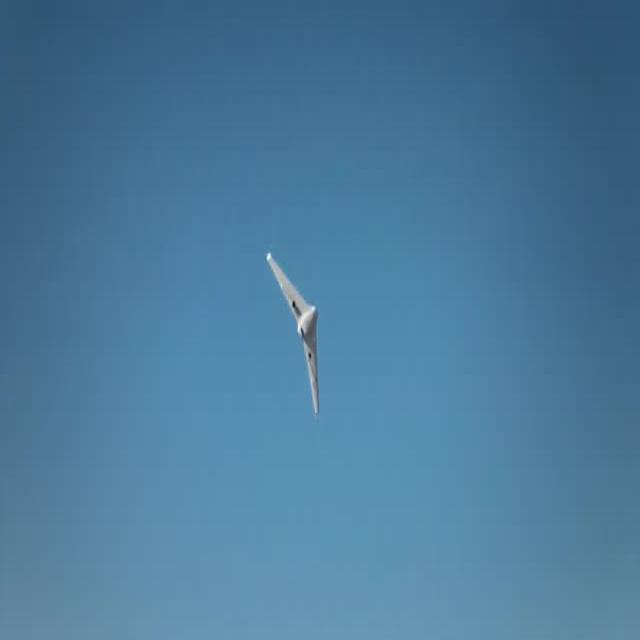iha: (265, 235, 324, 416)
